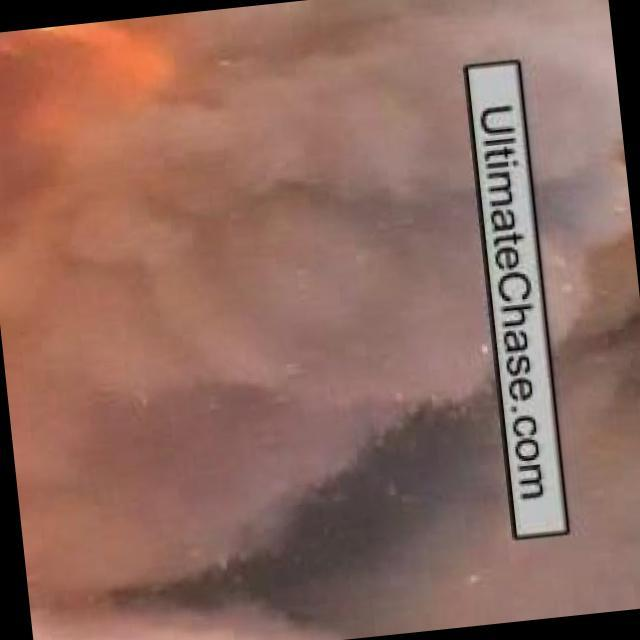Fire: (1, 8, 246, 191)
